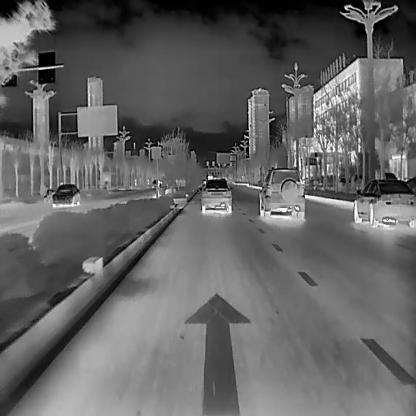car: (352, 178, 414, 227), (257, 167, 304, 219), (198, 179, 232, 213), (51, 184, 81, 208)
